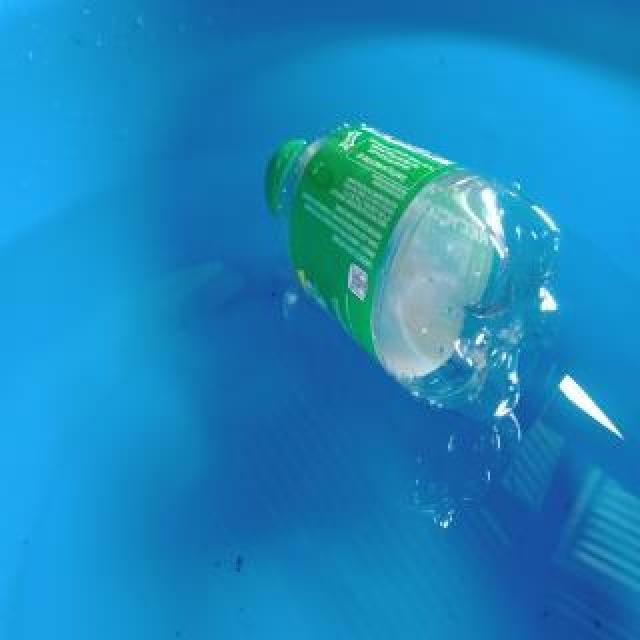bottle: (263, 118, 561, 422)
